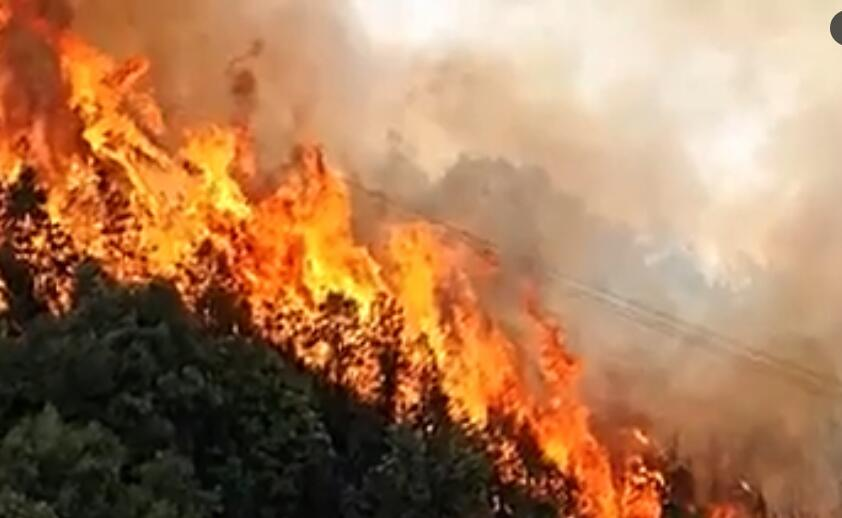fire: (5, 1, 310, 332), (421, 289, 690, 518), (199, 157, 457, 391)
smoke: (476, 82, 840, 502), (103, 9, 842, 177)
